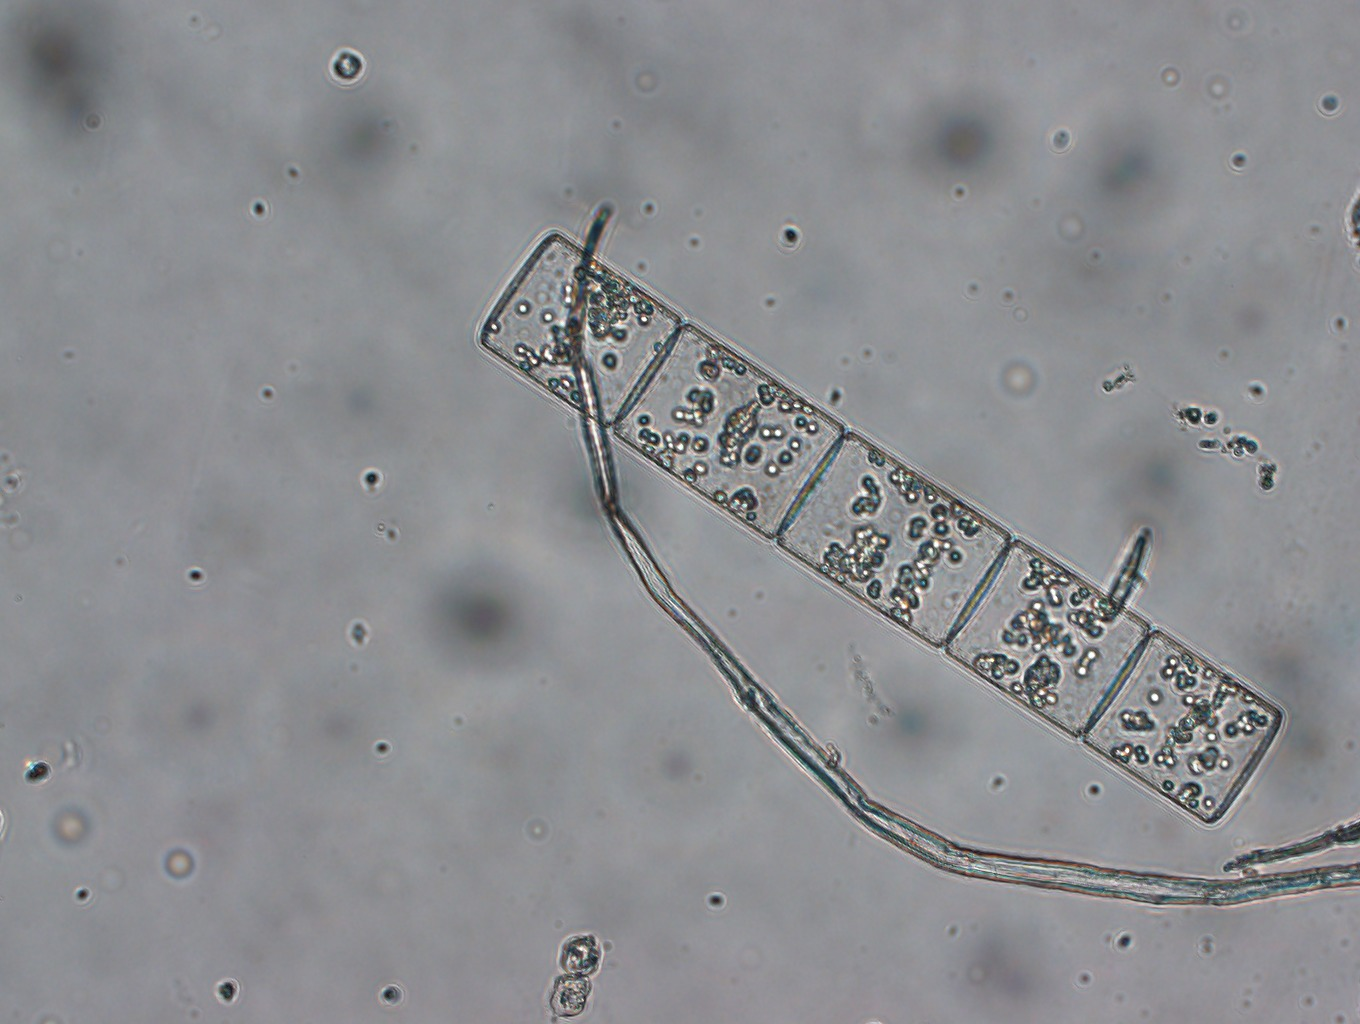guinardia flaccida: (456, 223, 1292, 835)
